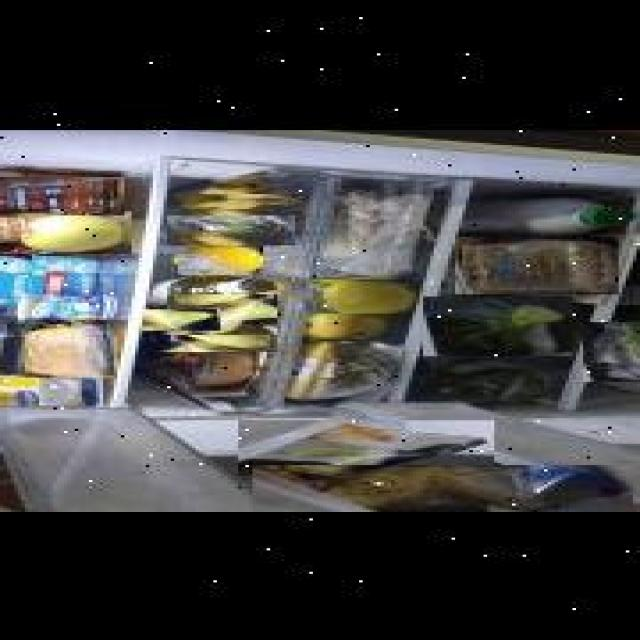apple: (0, 207, 132, 250), (306, 276, 412, 310), (300, 304, 393, 340)
asparagus: (167, 214, 295, 244)
banana: (166, 176, 276, 197), (192, 203, 284, 228), (167, 192, 302, 207)
bread: (455, 235, 619, 292)
broccoli: (423, 295, 573, 354)
grated_cheese: (252, 463, 633, 512), (238, 417, 494, 473)
humus: (151, 344, 261, 392), (25, 322, 114, 376)
lemon: (178, 243, 263, 273)
mayonaise: (0, 374, 103, 406)
milk: (461, 193, 638, 236)
pear: (167, 292, 277, 333), (156, 318, 278, 350), (142, 307, 220, 329)
pineapple: (284, 340, 409, 398)
salad: (583, 320, 640, 380)
tomato_sauce: (0, 174, 124, 213)
yogurt: (16, 292, 116, 320)
